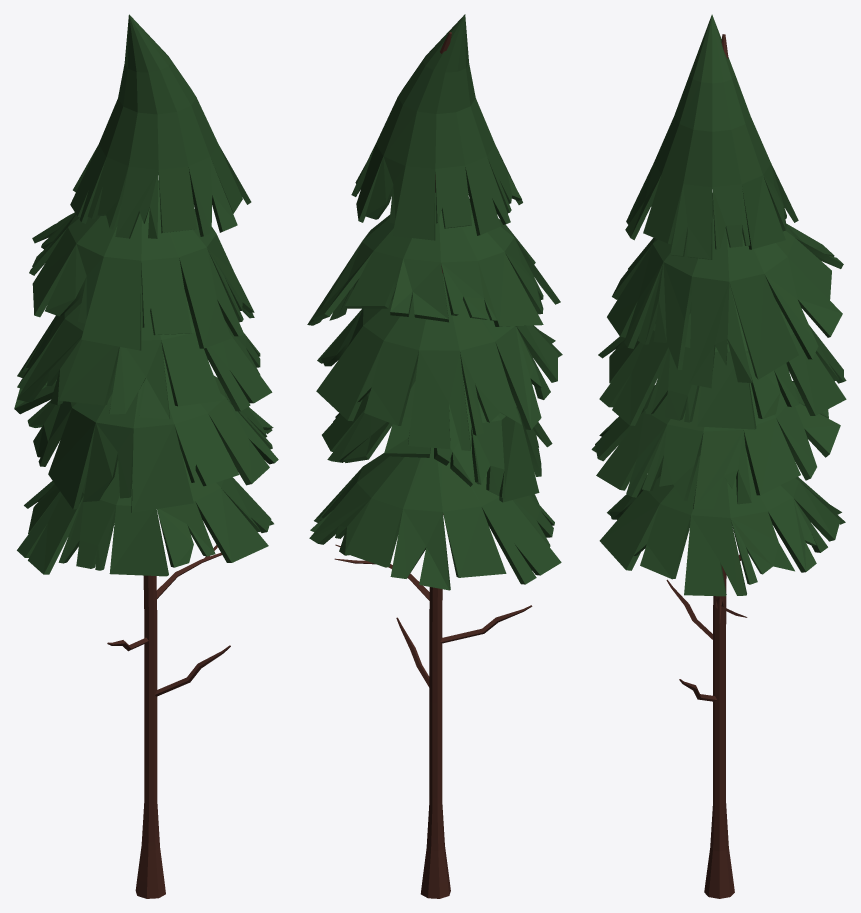
The model's file is SM_tree_conifer_01.fbx.
The picture shows the model from 3 angles, left to right: view 1: azimuth 30°, elevation 25°; view 2: azimuth 150°, elevation 25°; view 3: azimuth 270°, elevation 25°; orthographic projection. The views are drawn at different scales.
Visible parts, largest first — view 1: Line011; view 2: Line011; view 3: Line011.
Boxes of the visible parts, x1=… form: Line011: x1=14, y1=14, x2=278, y2=898; Line011: x1=307, y1=14, x2=562, y2=898; Line011: x1=591, y1=14, x2=846, y2=898.
Size of the model in its own units: 121 by 452 by 121.
